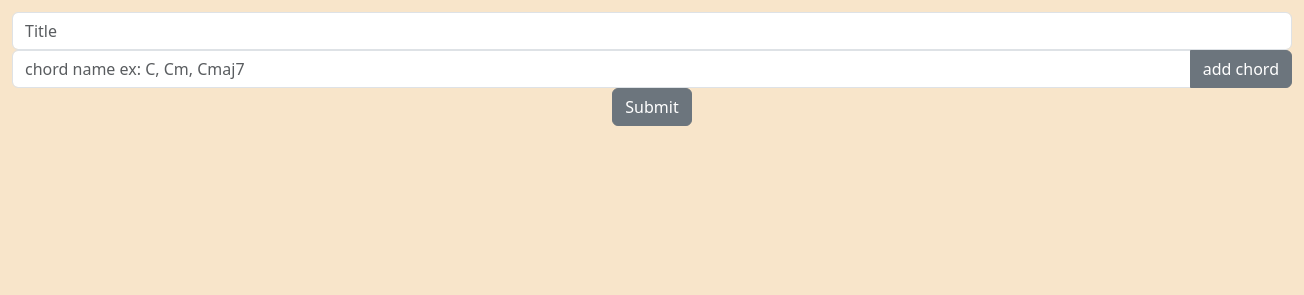
Test case: NewSong component › correctly adds chords to the screen
The image size is (1304, 295).
// Header elements
Click the field with placeholder "Title".
click(652, 31)  # box x1=12 y1=12 x2=1292 y2=50
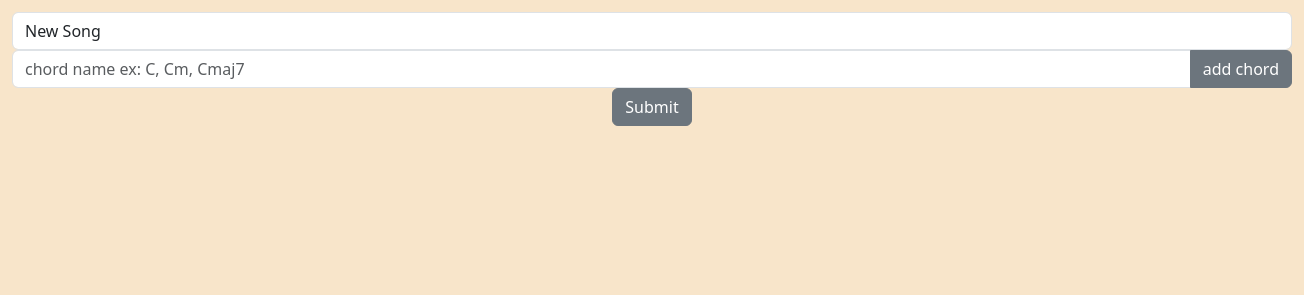
Click the field with placeholder "chord name ex: C, Cm, Cmaj7".
click(601, 69)  # box x1=12 y1=50 x2=1191 y2=88
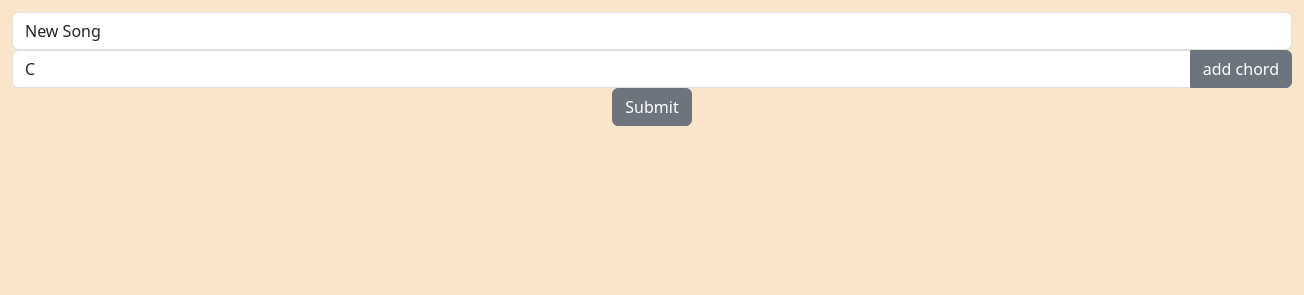
Click the button "add chord".
click(1241, 69)  # box x1=1190 y1=50 x2=1292 y2=88
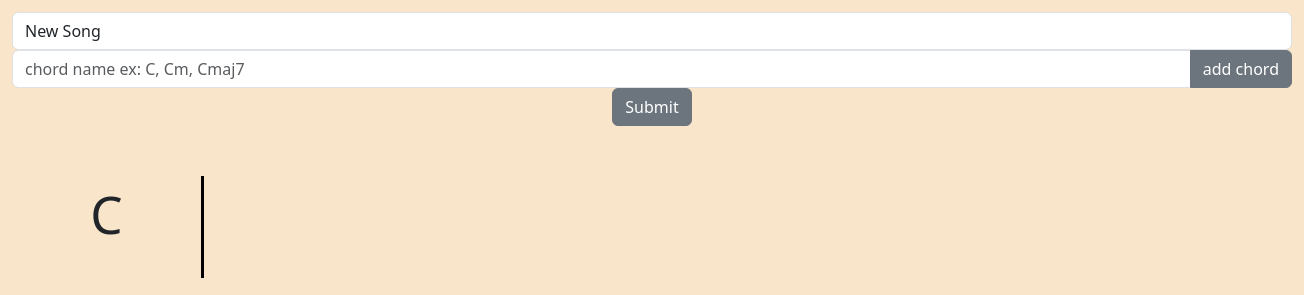
Click the field with placeholder "chord name ex: C, Cm, Cmaj7".
click(601, 69)  # box x1=12 y1=50 x2=1191 y2=88
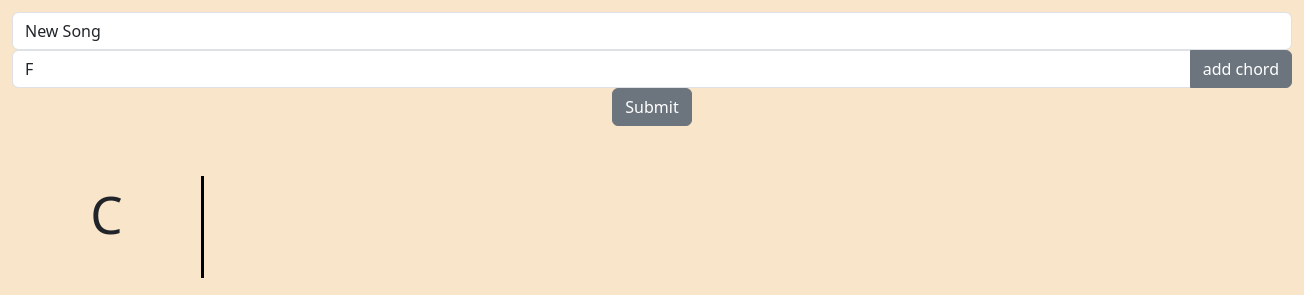
Click the button "add chord".
click(1241, 69)  # box x1=1190 y1=50 x2=1292 y2=88
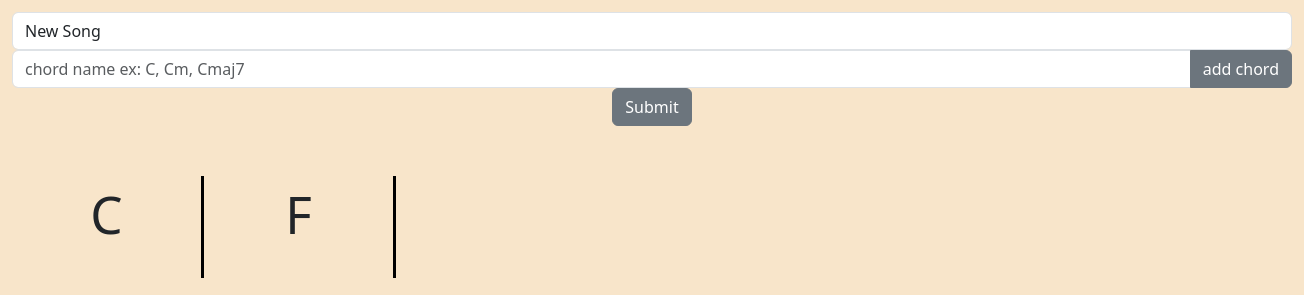
Now the text "C" is shown, box x1=12 y1=176 x2=204 y2=278
Now the text "F" is shown, box x1=204 y1=176 x2=396 y2=278
